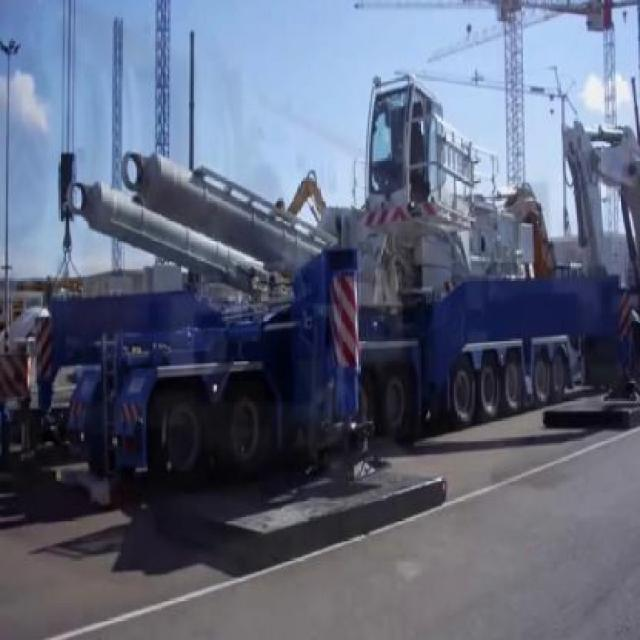Mobile Crane: (38, 65, 600, 524)
